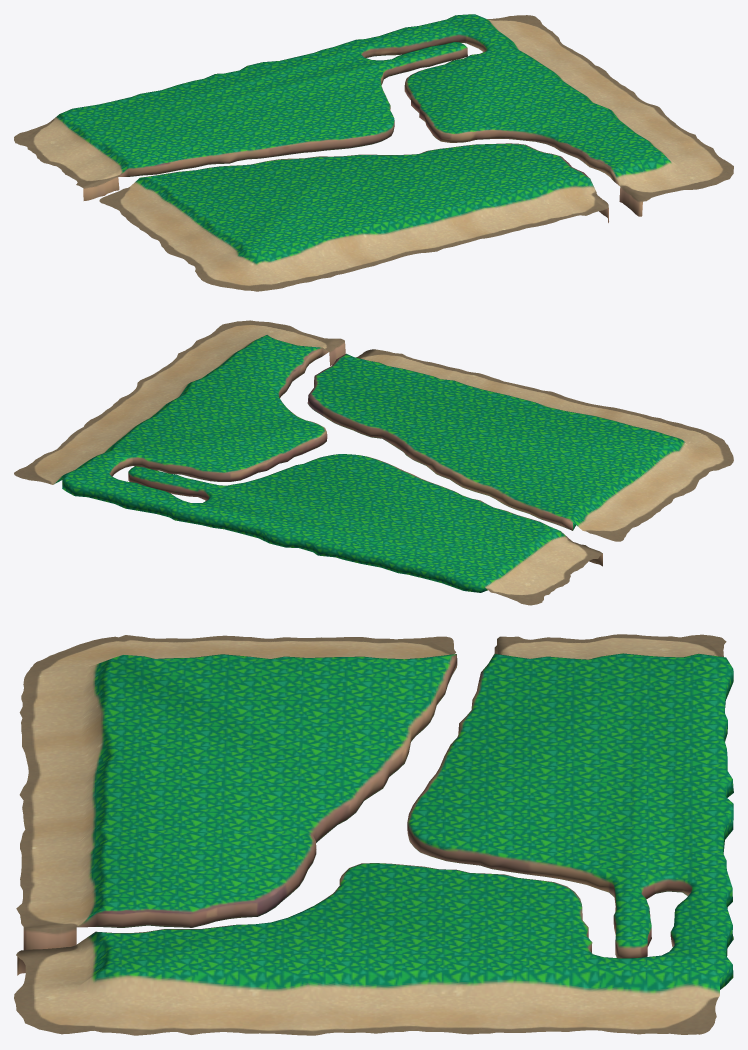
The model's file is island 2 model.glb.
3 views of the same model, one above another, from view 1: azimuth 30°, elevation 25°; view 2: azimuth 150°, elevation 25°; view 3: azimuth 270°, elevation 25° (orthographic). The views are drawn at different scales.
Parts seen in each view (by area): view 1: Plane; view 2: Plane; view 3: Plane.
Boxes of the visible parts, bbox=[...] form: Plane: bbox=[14, 14, 733, 291]; Plane: bbox=[14, 320, 733, 605]; Plane: bbox=[14, 634, 733, 1035].
Size of what is drawn, in the model's own units: 1194 by 61.91 by 906.
Materials: 1 (1 with a texture image).
